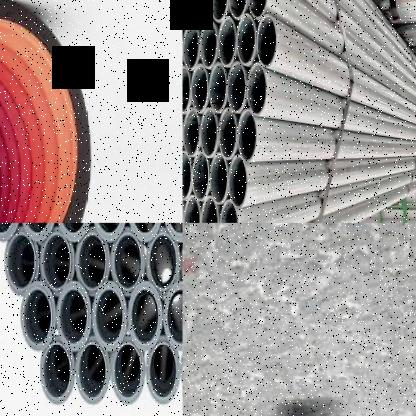pipe: (0, 15, 81, 223), (4, 228, 40, 296), (110, 336, 146, 404), (127, 281, 162, 350), (92, 282, 127, 350), (57, 282, 92, 350), (20, 282, 55, 350), (40, 227, 75, 295), (40, 336, 75, 404), (76, 227, 110, 295), (76, 337, 110, 405), (146, 336, 180, 404), (111, 228, 145, 295), (146, 228, 180, 294), (162, 282, 183, 350), (257, 14, 278, 70), (247, 61, 268, 116), (227, 60, 248, 115), (236, 14, 257, 68), (218, 14, 237, 70), (209, 152, 229, 205), (238, 108, 257, 163), (209, 60, 228, 115), (200, 17, 219, 71), (230, 154, 248, 210), (200, 105, 218, 161), (218, 107, 236, 160), (192, 150, 210, 202), (183, 106, 201, 158), (182, 19, 199, 72), (191, 64, 209, 112), (92, 223, 128, 242), (127, 223, 162, 242), (57, 223, 92, 241), (20, 223, 55, 240), (184, 193, 202, 223), (201, 194, 219, 223), (220, 197, 240, 223), (191, 0, 210, 25), (183, 150, 192, 202), (210, 0, 229, 22), (183, 64, 191, 115), (228, 0, 248, 20), (248, 0, 268, 18), (183, 0, 192, 30)
